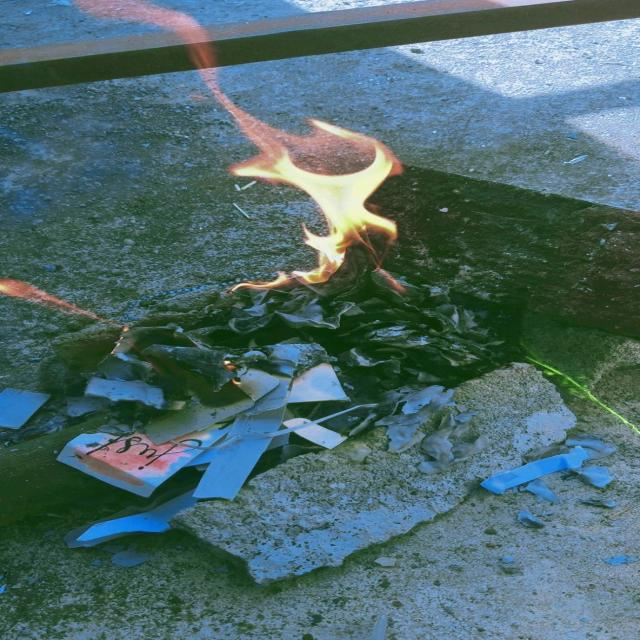fire: (230, 118, 402, 290)
